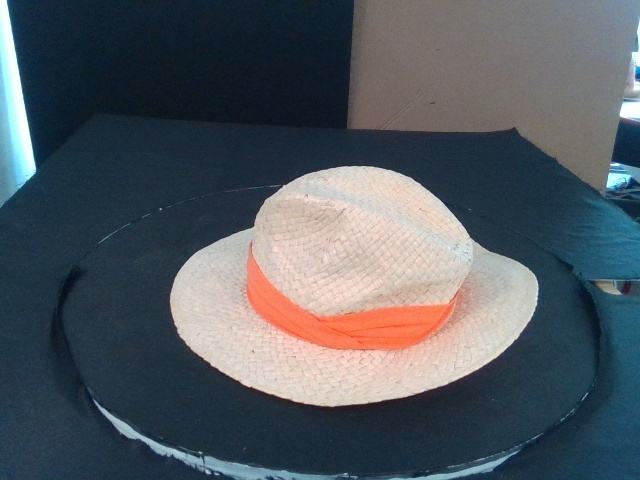hat: (169, 162, 540, 407)
